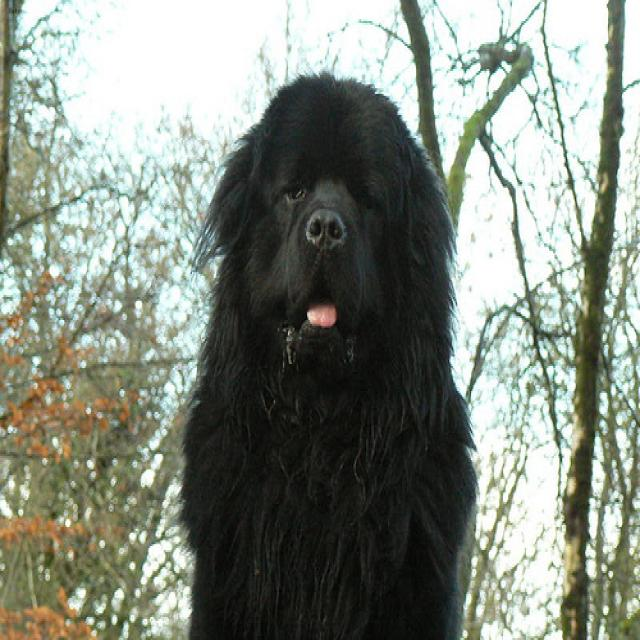dog-newfoundland: (174, 61, 481, 636)
